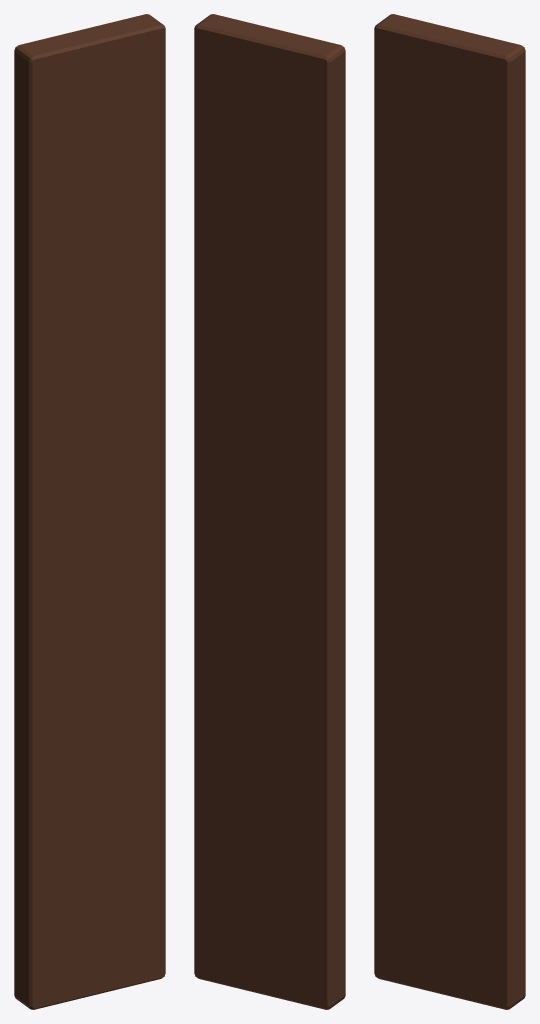
The model's file is sign_timber_slat.glb.
3 renders of one model, left to right at view 1: azimuth 30°, elevation 25°; view 2: azimuth 150°, elevation 25°; view 3: azimuth 330°, elevation 25°, orthographic.
Parts seen in each view (by area): view 1: sign_timber_slat; view 2: sign_timber_slat; view 3: sign_timber_slat.
Part boxes in pixels (<box>): sign_timber_slat: <box>14,14,165,1009</box>; sign_timber_slat: <box>194,14,345,1009</box>; sign_timber_slat: <box>374,14,525,1009</box>.
Size of the model in its own units: 0.09 by 0.6 by 0.02.
